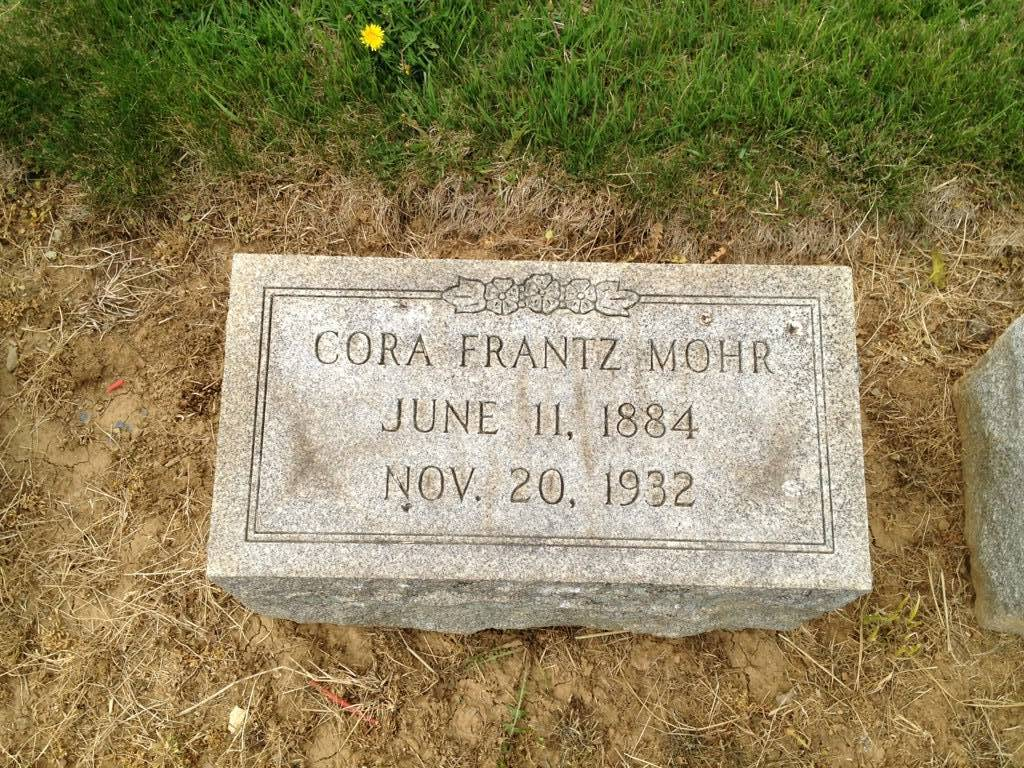flat: (202, 250, 870, 629)
